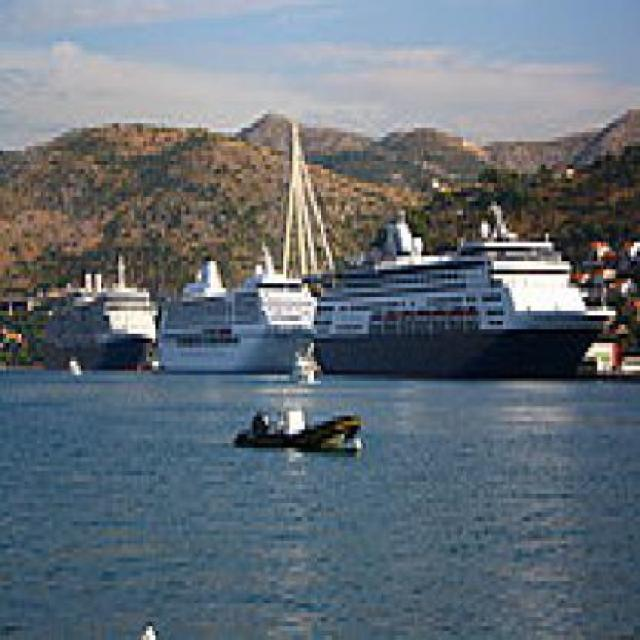cruise: (312, 202, 629, 399), (154, 244, 334, 390), (20, 257, 169, 380)
